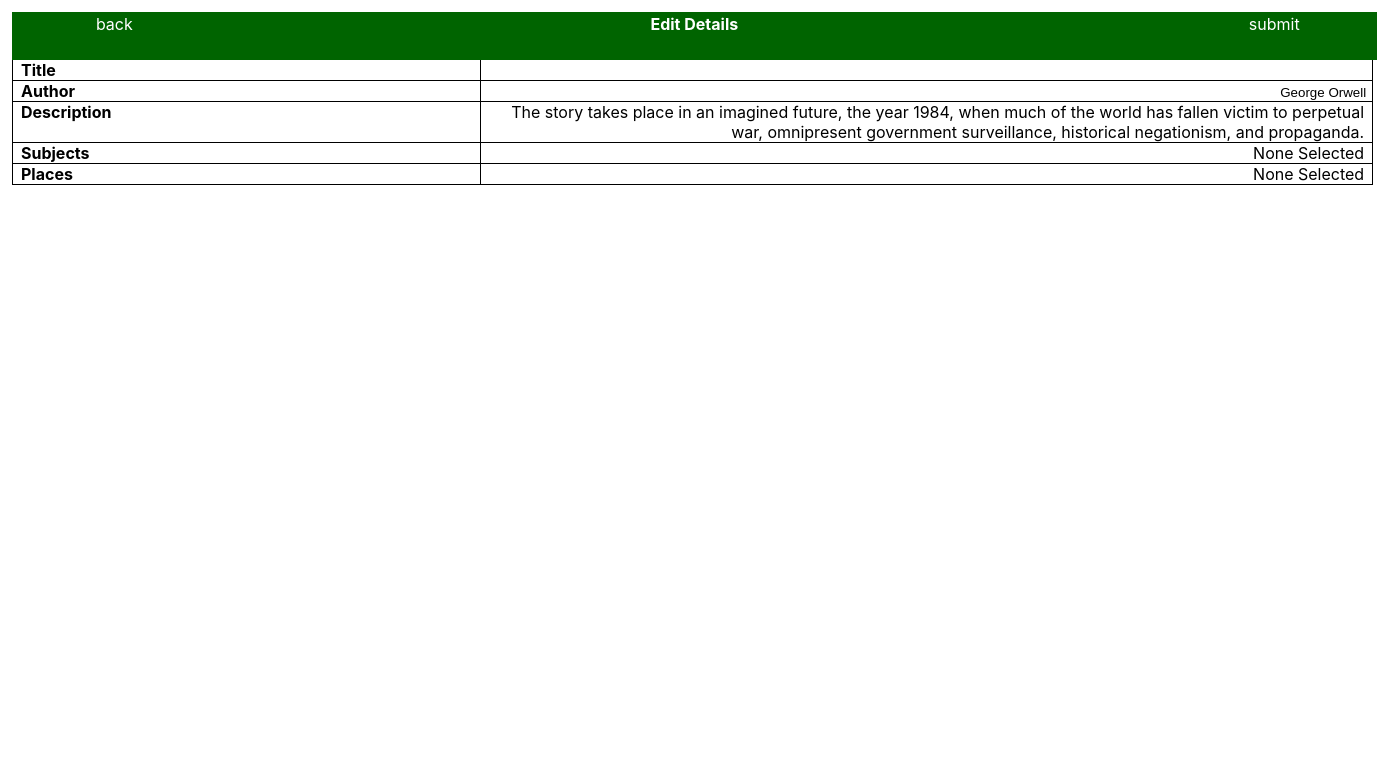
The Edit component › the edit mode › Should change view to textarea when clicking the description
Click the element that starts with "Description" at (693, 122), box [12,102,1373,143]
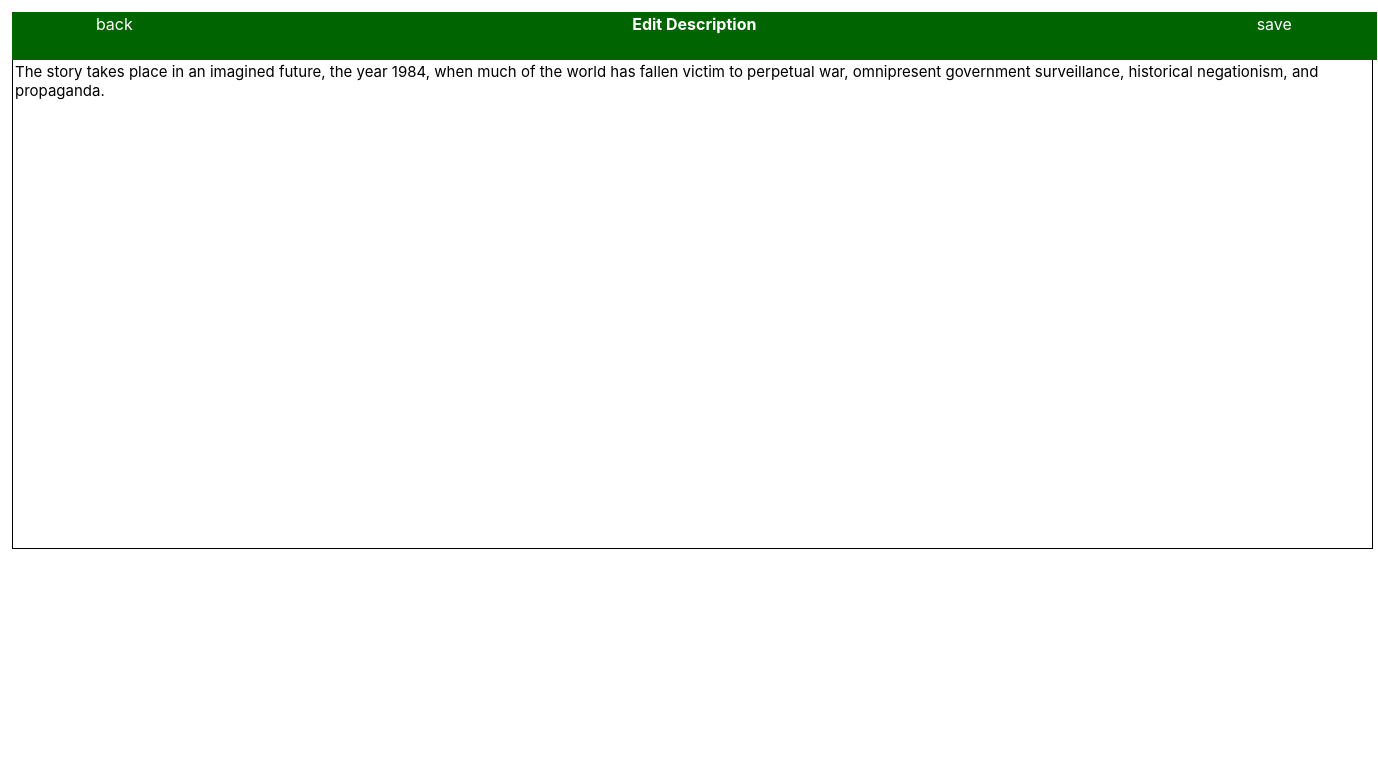
Expected: the text "Edit Description" is shown, [632,14,756,34]
